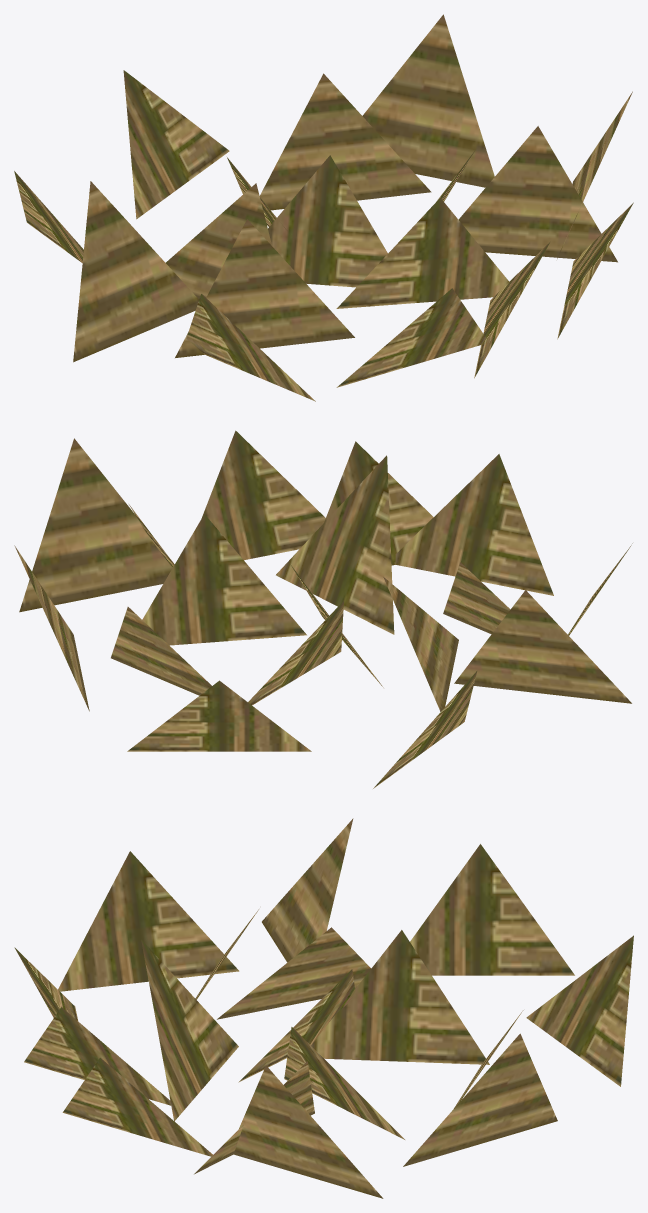
The model's file is dec_Ground_Grass_09_14046.glb.
3 views of the same model, one above another, from view 1: azimuth 30°, elevation 25°; view 2: azimuth 150°, elevation 25°; view 3: azimuth 270°, elevation 25° (orthographic). The views are drawn at different scales.
Parts seen in each view (by area): view 1: Ground_Grass_09_mesh; view 2: Ground_Grass_09_mesh; view 3: Ground_Grass_09_mesh.
Boxes of the visible parts, x1,y1,x2,y2 form: Ground_Grass_09_mesh: (14, 14, 633, 401); Ground_Grass_09_mesh: (14, 430, 632, 788); Ground_Grass_09_mesh: (14, 818, 633, 1198).
Size of the model in its own units: 1.19 by 0.2685 by 1.12.
1 material, 1 textured.
